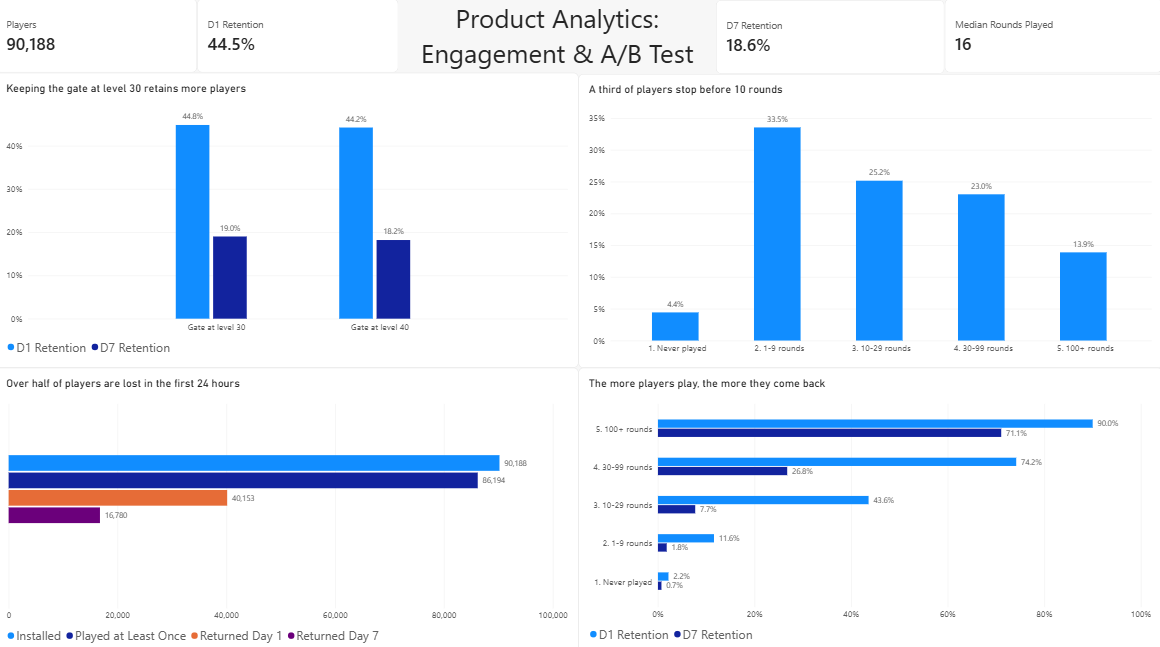

What the dashboard file says about the page in this screenshot:
{"tool":"powerbi","page":{"name":"Page 1","canvas":[1920,1080],"ordinal":0},"visuals":[{"type":"cardVisual","fields":{"Data":["players_clean.Players Card"]},"box":[0,0,331.4,121.4],"z":0},{"type":"cardVisual","fields":{"Data":["players_clean.D1 Retention"]},"box":[331.4,0,331.4,121.4],"z":1},{"type":"cardVisual","fields":{"Data":["players_clean.D7 Retention"]},"box":[1185.6,2.1,376.7,121.4],"z":2},{"type":"cardVisual","fields":{"Data":["players_clean.Median Rounds"]},"box":[1562.3,0,358.1,121.4],"z":3},{"type":"clusteredColumnChart","title":"Keeping the gate at level 30 retains more players","fields":{"Category":["players_clean.version"],"Y":["players_clean.D1 Retention","players_clean.D7 Retention"]},"box":[0,121.4,959.2,485.8],"z":4},{"type":"clusteredBarChart","title":"Over half of players are lost in the first 24 hours","fields":{"Y":["players_clean.Installed","players_clean.Played at Least Once","players_clean.Returned Day 1","players_clean.Returned Day 7"]},"box":[0,607.2,959.2,475.5],"z":5},{"type":"clusteredColumnChart","title":"A third of players stop before 10 rounds","fields":{"Category":["players_clean.engagement_band"],"Y":["players_clean.Player Share"]},"box":[959.2,123.5,961.2,483.7],"z":6},{"type":"clusteredBarChart","title":"The more players play, the more they come back","fields":{"Category":["players_clean.engagement_band"],"Y":["players_clean.D1 Retention","players_clean.D7 Retention"]},"box":[959.2,607.2,961.2,473.4],"z":7},{"type":"textbox","box":[662.8,2.1,522.8,121.4],"z":8}]}

Visuals, with their boxes in screenshot pixels (x1, y1, x2, y2), scaled from the page's 1920x1080 canvas onto the 1160x647 screenshot:
cardVisual - players_clean.Players Card: BBox(0, 0, 200, 73)
cardVisual - players_clean.D1 Retention: BBox(200, 0, 400, 73)
cardVisual - players_clean.D7 Retention: BBox(716, 1, 944, 74)
cardVisual - players_clean.Median Rounds: BBox(944, 0, 1159, 73)
"Keeping the gate at level 30 retains more players" clusteredColumnChart: BBox(0, 73, 580, 364)
"Over half of players are lost in the first 24 hours" clusteredBarChart: BBox(0, 364, 580, 646)
"A third of players stop before 10 rounds" clusteredColumnChart: BBox(580, 74, 1159, 364)
"The more players play, the more they come back" clusteredBarChart: BBox(580, 364, 1159, 646)
textbox: BBox(400, 1, 716, 74)
